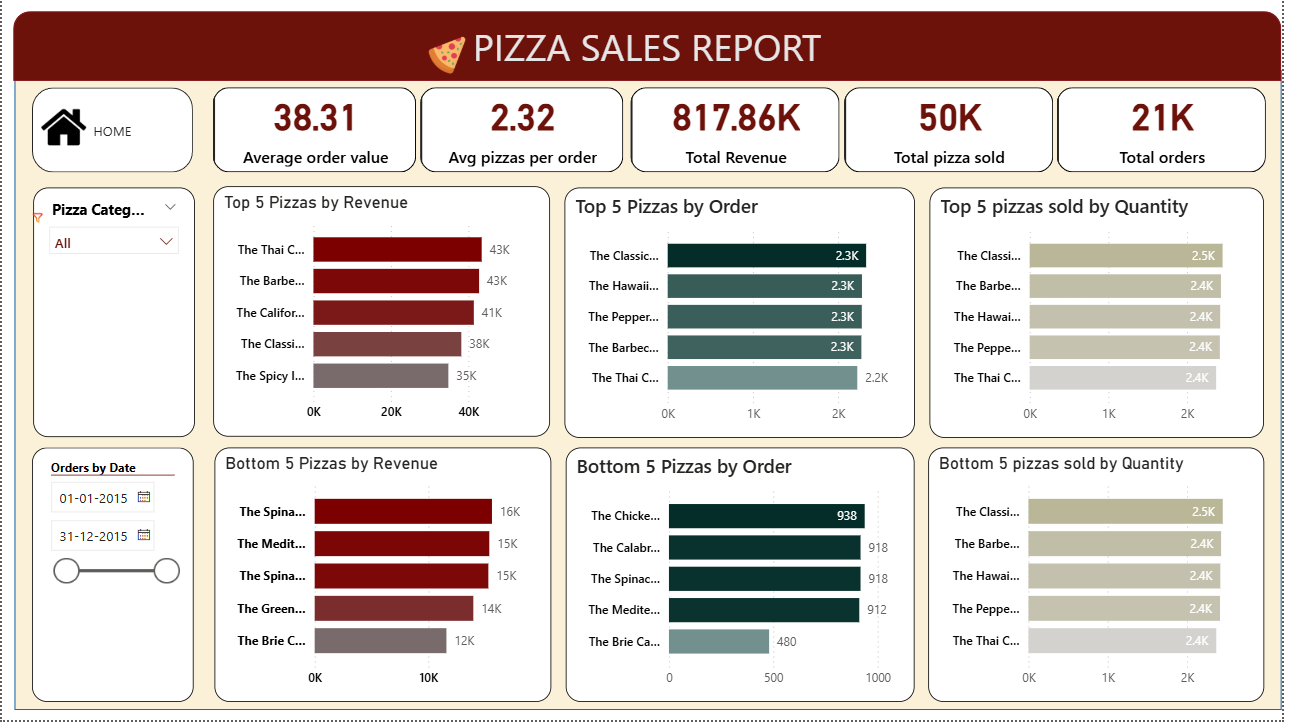

The dashboard page shown, as its layout file describes it:
{"tool":"powerbi","page":{"name":"BEST WORKERS/SELLER","canvas":[1280,720],"ordinal":1},"visuals":[{"type":"shape","box":[12.9,70,1267.1,640],"z":0},{"type":"cardVisual","fields":{"Data":["pizza_sales.Average order value","pizza_sales.Avg pizzas per order"]},"box":[206.3,82,420,95.7],"z":1000},{"type":"cardVisual","fields":{"Data":["pizza_sales.Total Revenue","pizza_sales.Total pizza sold","pizza_sales.Total orders"]},"box":[623.4,82,647.1,95.7],"z":2000},{"type":"shape","box":[11,11,1268,69.7],"z":3000},{"type":"textbox","box":[377.1,15.7,535.7,64.3],"z":4000},{"type":"slicer","fields":{"Values":["pizza_sales.pizza_category"]},"box":[31.2,187.7,161.4,249.5],"z":5000},{"type":"slicer","fields":{"Values":["pizza_sales.order_date"]},"box":[30.6,447.7,161.4,254.3],"z":6000},{"type":"pageNavigator","box":[30.6,87.7,161.4,85.7],"z":7000},{"type":"image","box":[22,206.7,25.7,23.2],"z":9000},{"type":"barChart","title":"Top 5 Pizzas by Revenue","fields":{"Y":["pizza_sales.Total Revenue"],"Category":["pizza_sales.pizza_name"]},"box":[211.3,186.7,337.1,250],"z":11000},{"type":"barChart","title":"Top 5 Pizzas by Order","fields":{"Y":["pizza_sales.Total orders"],"Category":["pizza_sales.pizza_name"]},"box":[562.9,187.1,350,250],"z":12000},{"type":"barChart","title":"Top 5 pizzas sold by Quantity","fields":{"Y":["pizza_sales.Total pizza sold"],"Category":["pizza_sales.pizza_name"]},"box":[927.1,187.1,334.3,250],"z":13000},{"type":"barChart","title":"Bottom 5 Pizzas by Revenue","fields":{"Y":["pizza_sales.Total Revenue"],"Category":["pizza_sales.pizza_name"]},"box":[211.9,447.2,337.1,254.3],"z":14000},{"type":"barChart","title":"Bottom 5 pizzas sold by Quantity","fields":{"Y":["pizza_sales.Total pizza sold"],"Category":["pizza_sales.pizza_name"]},"box":[926.3,447.2,335.7,254.3],"z":15000},{"type":"barChart","title":"Bottom 5 Pizzas by Order","fields":{"Y":["pizza_sales.Total orders"],"Category":["pizza_sales.pizza_name"]},"box":[563.4,447.7,348.6,254.3],"z":16000},{"type":"image","box":[34.3,100,55.7,54.3],"z":16501},{"type":"image","box":[415.7,31.4,57.1,48.6],"z":16502}]}

Visuals, with their boxes in screenshot pixels (x1, y1, x2, y2), scaled from the page's 1280x720 canvas onto the 1291x723 screenshot:
shape: region(13, 70, 1290, 713)
cardVisual - pizza_sales.Average order value x pizza_sales.Avg pizzas per order: region(208, 82, 632, 178)
cardVisual - pizza_sales.Total Revenue x pizza_sales.Total pizza sold: region(629, 82, 1281, 178)
shape: region(11, 11, 1290, 81)
textbox: region(380, 16, 921, 80)
slicer - pizza_sales.pizza_category: region(31, 188, 194, 439)
slicer - pizza_sales.order_date: region(31, 450, 194, 705)
pageNavigator: region(31, 88, 194, 174)
image: region(22, 208, 48, 231)
"Top 5 Pizzas by Revenue" barChart: region(213, 187, 553, 439)
"Top 5 Pizzas by Order" barChart: region(568, 188, 921, 439)
"Top 5 pizzas sold by Quantity" barChart: region(935, 188, 1272, 439)
"Bottom 5 Pizzas by Revenue" barChart: region(214, 449, 554, 704)
"Bottom 5 pizzas sold by Quantity" barChart: region(934, 449, 1273, 704)
"Bottom 5 Pizzas by Order" barChart: region(568, 450, 920, 705)
image: region(35, 100, 91, 155)
image: region(419, 32, 477, 80)
